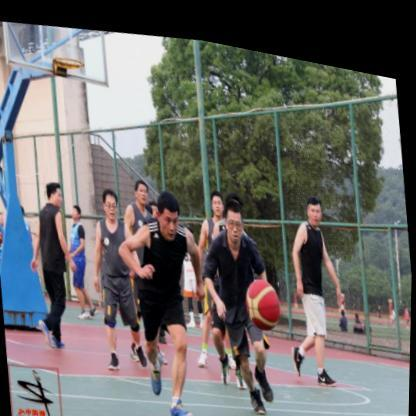basketball: (243, 263, 284, 324)
